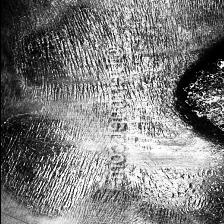Potentially Malignant Skin Tumors: (0, 113, 91, 218), (174, 27, 224, 149)
